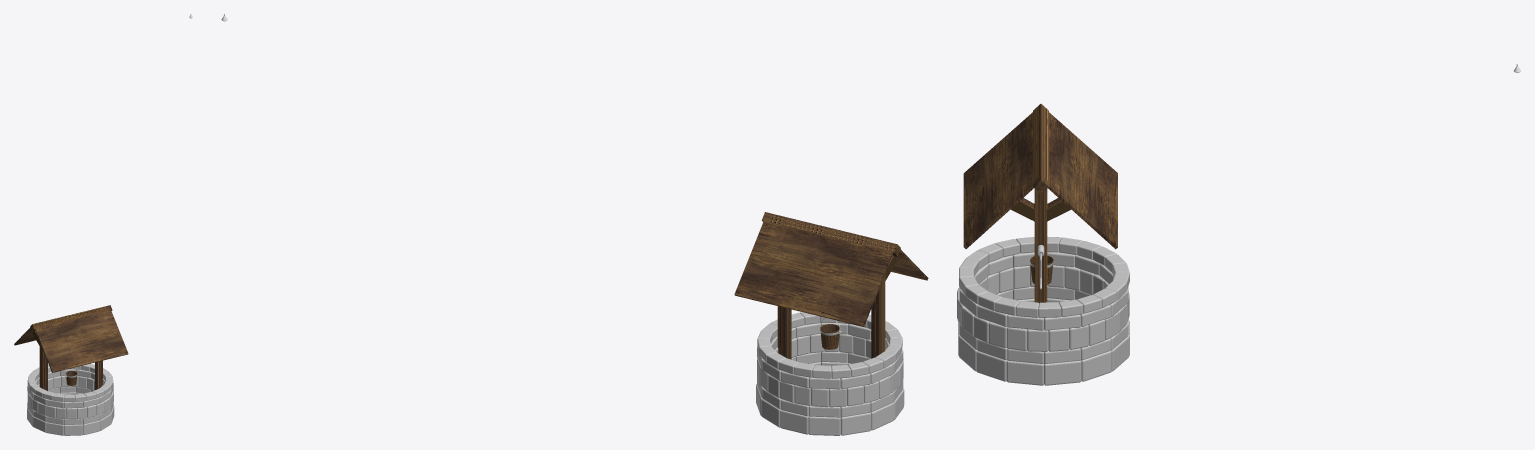
File: Well.fbx
3 renders of one model, left to right at view 1: azimuth 30°, elevation 25°; view 2: azimuth 150°, elevation 25°; view 3: azimuth 270°, elevation 25°, orthographic. The views are drawn at different scales.
Parts seen in each view (by area): view 1: Plane, Cube.002, Cube.004, Cube, Cube.003, Cube.001, Cube.006, Cube.005; view 2: Plane, Cube.002, Cube.004, Cube, Cube.003, Cube.001, Cube.006, Cube.005; view 3: Plane, Cube.002, Cube.004, Cube, Cube.003, Cube.001, Cube.006, Cube.005.
Boxes of the visible parts, x1,y1,x2,y2 form: Plane: (14,310,128,372); Cube.002: (27,376,113,419); Cube.004: (27,363,113,402); Cube: (27,392,114,435); Cube.003: (27,369,113,408); Cube.001: (27,386,113,424); Cube.006: (32,331,102,390); Cube.005: (30,305,112,331); Plane: (734,221,928,326); Cube.002: (757,333,903,407); Cube.004: (757,312,902,378); Cube: (756,361,904,435); Cube.003: (757,322,903,389); Cube.001: (757,351,903,417); Cube.006: (777,255,897,359); Cube.005: (761,212,900,256); Plane: (963,112,1117,249); Cube.002: (957,265,1129,351); Cube.004: (959,236,1129,317); Cube: (958,298,1129,385); Cube.003: (959,252,1128,330); Cube.001: (959,285,1128,363); Cube.006: (1011,189,1070,303); Cube.005: (1033,104,1048,193).
Size of the model in its own units: 1053 by 933 by 920.
